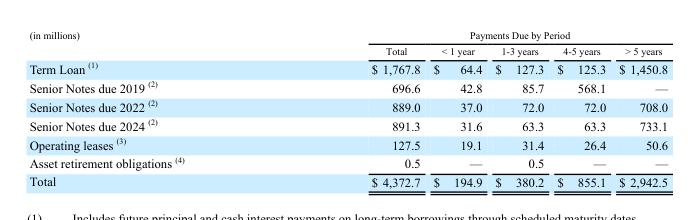table: (28, 28, 667, 189)
table column: (28, 28, 277, 189), (277, 28, 426, 189), (426, 28, 488, 189), (549, 28, 611, 189), (488, 28, 549, 189), (611, 28, 667, 189)
table column header: (28, 28, 667, 58)
table row: (28, 152, 667, 172), (28, 58, 667, 77), (28, 77, 667, 96), (28, 114, 667, 133), (28, 133, 667, 152), (28, 96, 667, 114), (28, 172, 667, 189), (28, 42, 667, 58), (28, 28, 667, 42)
table spanning cell: (28, 28, 277, 58), (277, 28, 667, 42)
